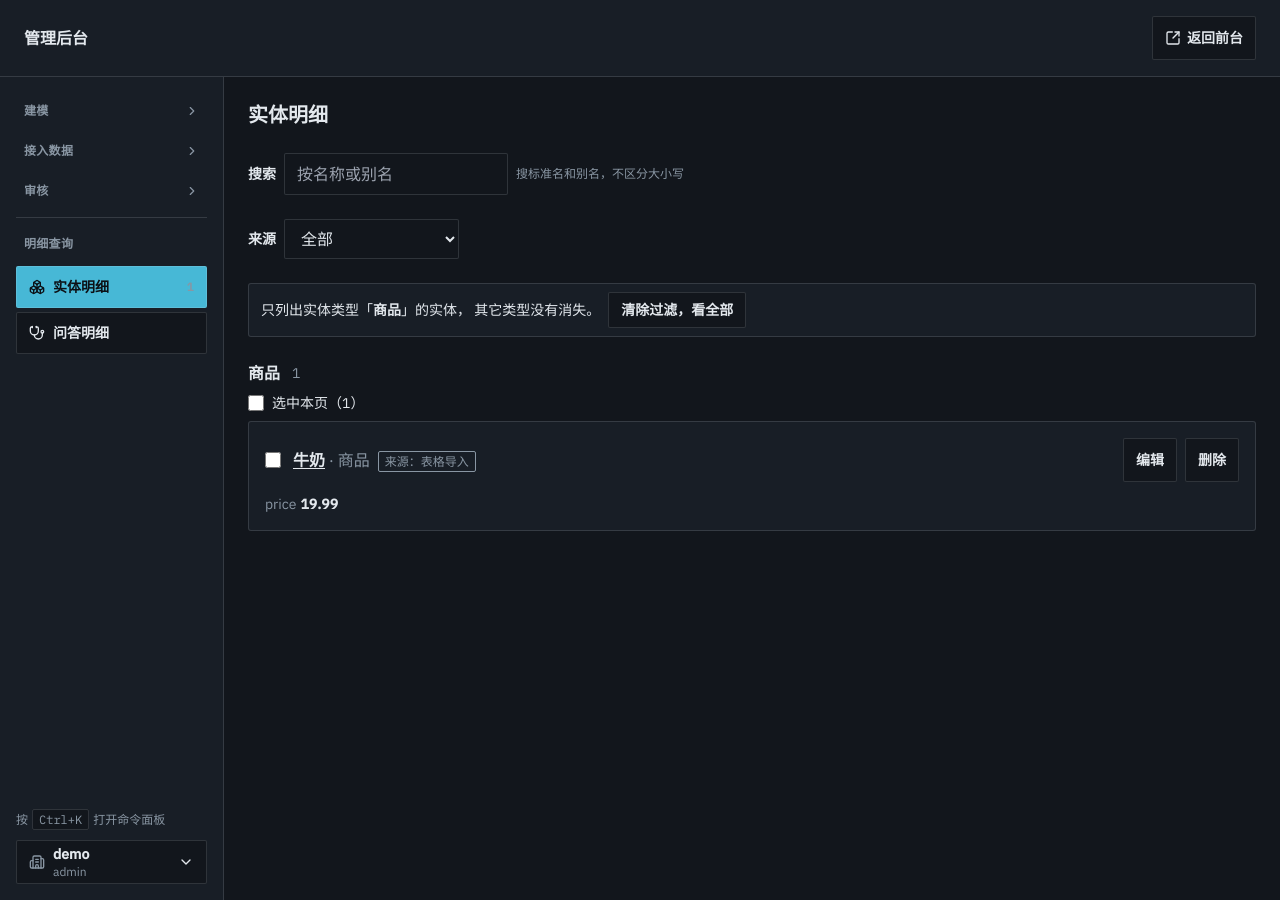
实体明细的属性显示名 › 编辑实体时属性按显示名展示
Click the button "编辑": x=1150, y=460 left=1123, top=438, right=1177, bottom=482
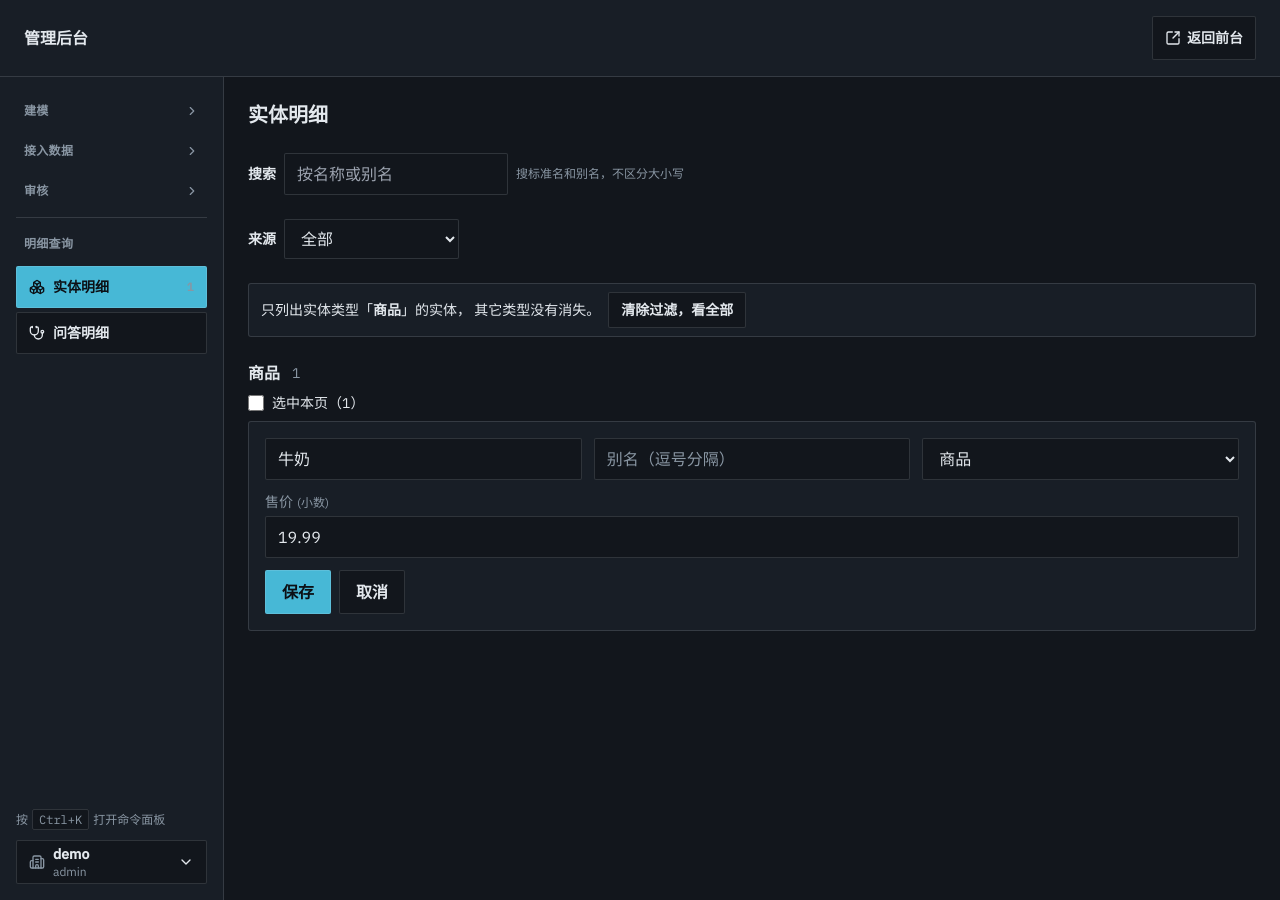
Check: the field named "售价（牛奶）" holds "19.99", box left=265, top=516, right=1239, bottom=558
